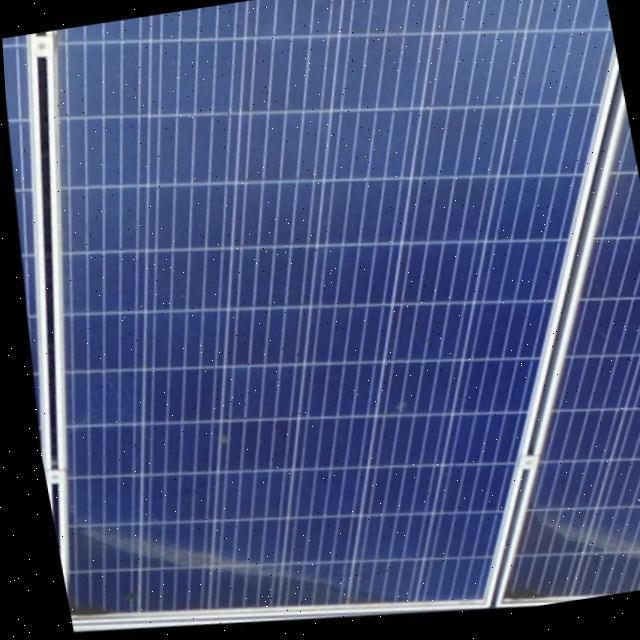Surface Contaminant: (47, 476, 388, 639), (482, 492, 640, 613)
